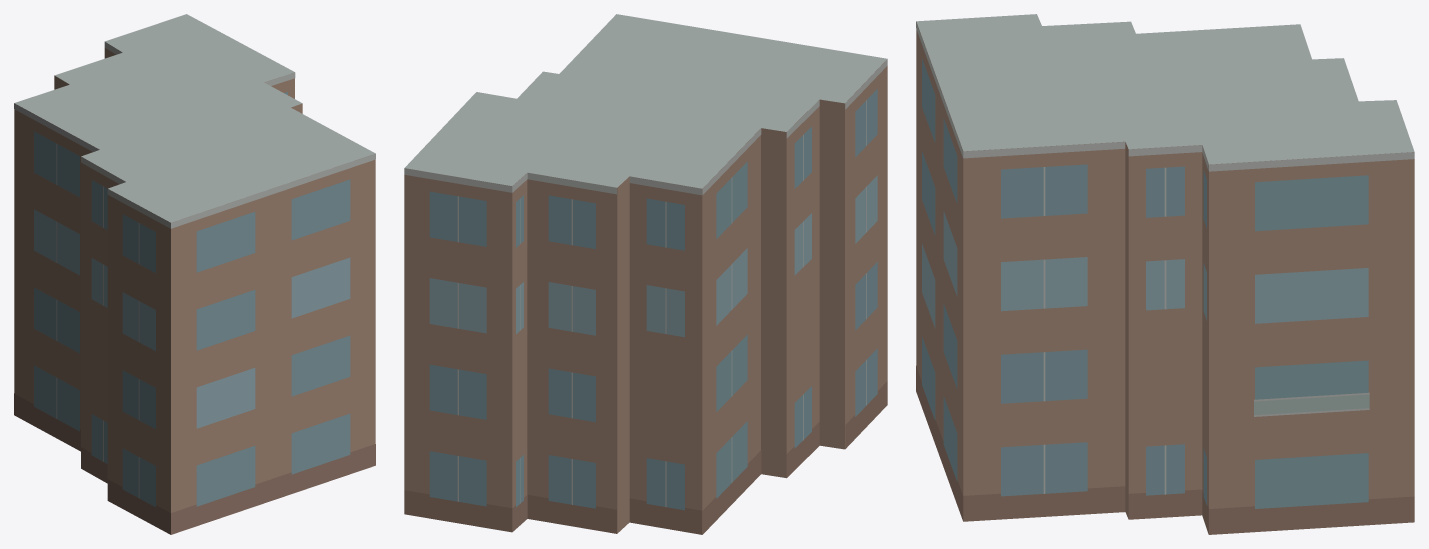
File: survey-upis-32633254.glb
The picture shows the model from 3 angles, left to right: view 1: azimuth 30°, elevation 25°; view 2: azimuth 150°, elevation 25°; view 3: azimuth 270°, elevation 25°; orthographic projection. The views are drawn at different scales.
Visible parts, largest first — view 1: survey-upis-32633254.tmp; view 2: survey-upis-32633254.tmp; view 3: survey-upis-32633254.tmp.
Boxes of the visible parts, x1=… form: survey-upis-32633254.tmp: x1=14, y1=14, x2=375, y2=534; survey-upis-32633254.tmp: x1=404, y1=14, x2=887, y2=534; survey-upis-32633254.tmp: x1=916, y1=14, x2=1414, y2=534.
Bounding box in the file's own units: 11.08 × 12.7 × 15.5.
